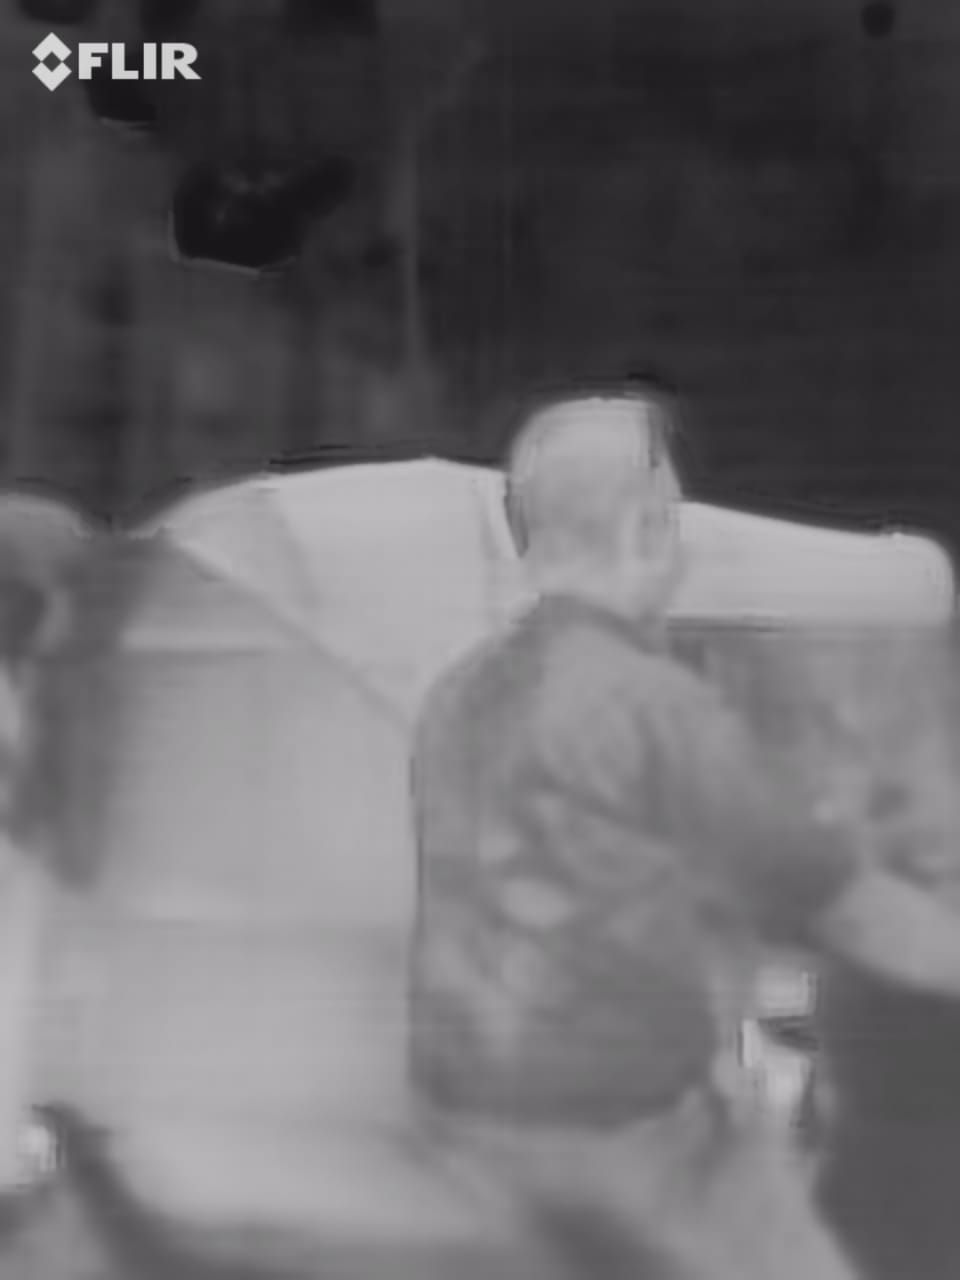head: (501, 385, 699, 622)
